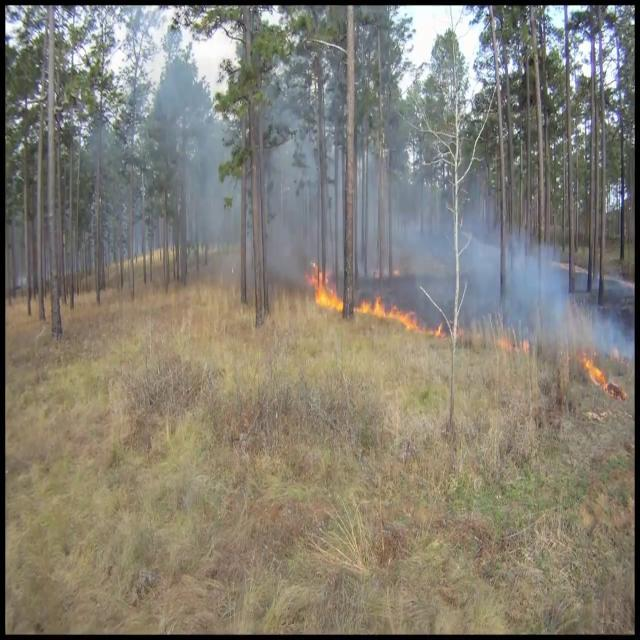Fire: (352, 286, 422, 328), (304, 258, 344, 312), (575, 348, 610, 389)
Smoke: (165, 59, 415, 276), (423, 170, 628, 378)
